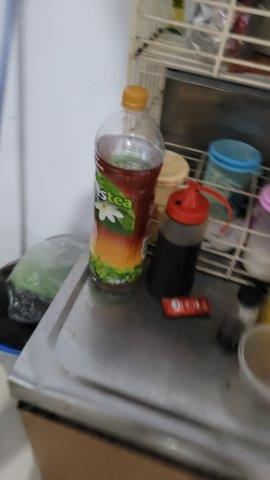botolplastik: (87, 85, 165, 294)
